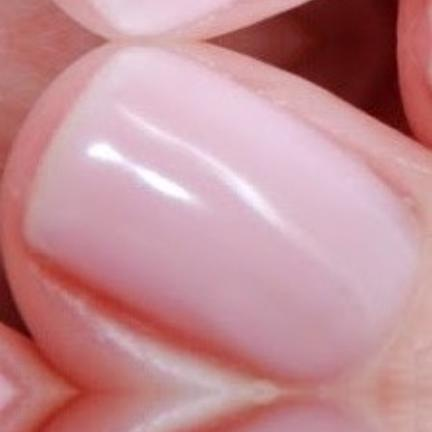Nail: (26, 44, 426, 381), (206, 401, 377, 432), (90, 0, 231, 36)
